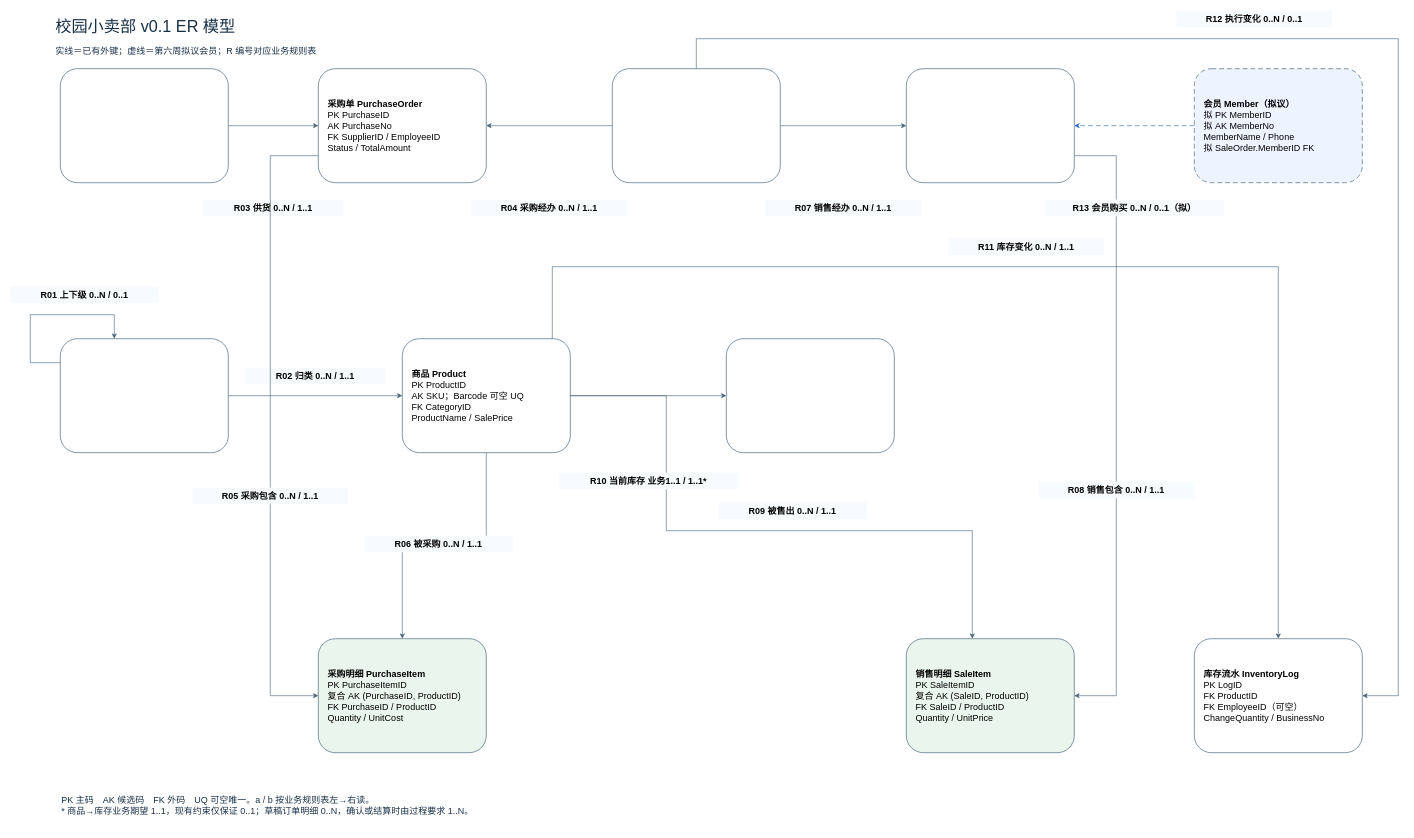
Some shapes in this 1414 by 838 pixel diagram are drawn without their labels. Here are the shapes that lost their labels. From the top down, the centre of each, then its label:
At (x=144, y=125): "供应商 Supplier PK SupplierID AK SupplierCode SupplierName ContactName / Phone".
At (x=696, y=125): "员工 Employee PK EmployeeID AK EmployeeNo EmployeeName / RoleName Status".
At (x=990, y=125): "销售单 SaleOrder PK SaleID AK SaleNo FK EmployeeID Status / PaymentMethod".
At (x=144, y=395): "分类 Category PK CategoryID AK CategoryCode FK ParentID（可空） CategoryName / Status".
At (x=810, y=395): "库存 Inventory PK+FK ProductID Quantity MinQuantity 业务目标：每商品一行".
